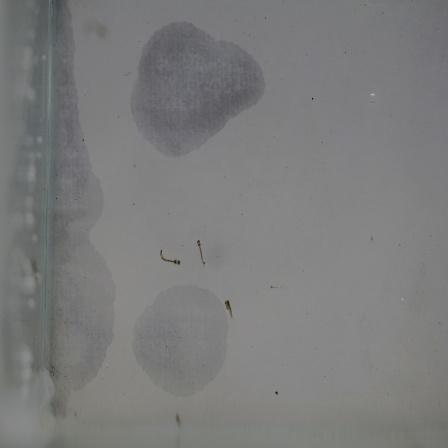Jentik-Nyamuk: (154, 247, 185, 273), (219, 297, 243, 325), (194, 235, 215, 267)
